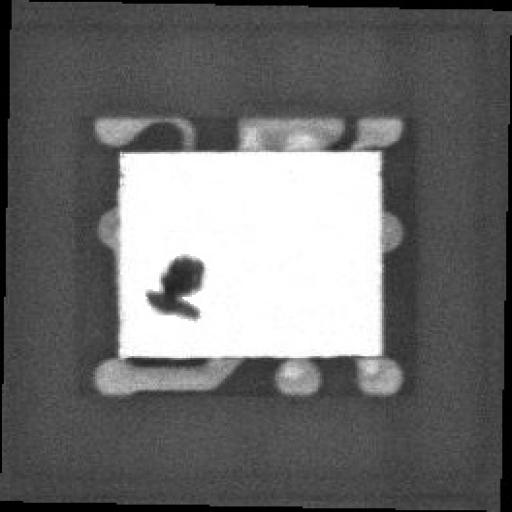DIE_INK: (137, 264, 197, 334)
